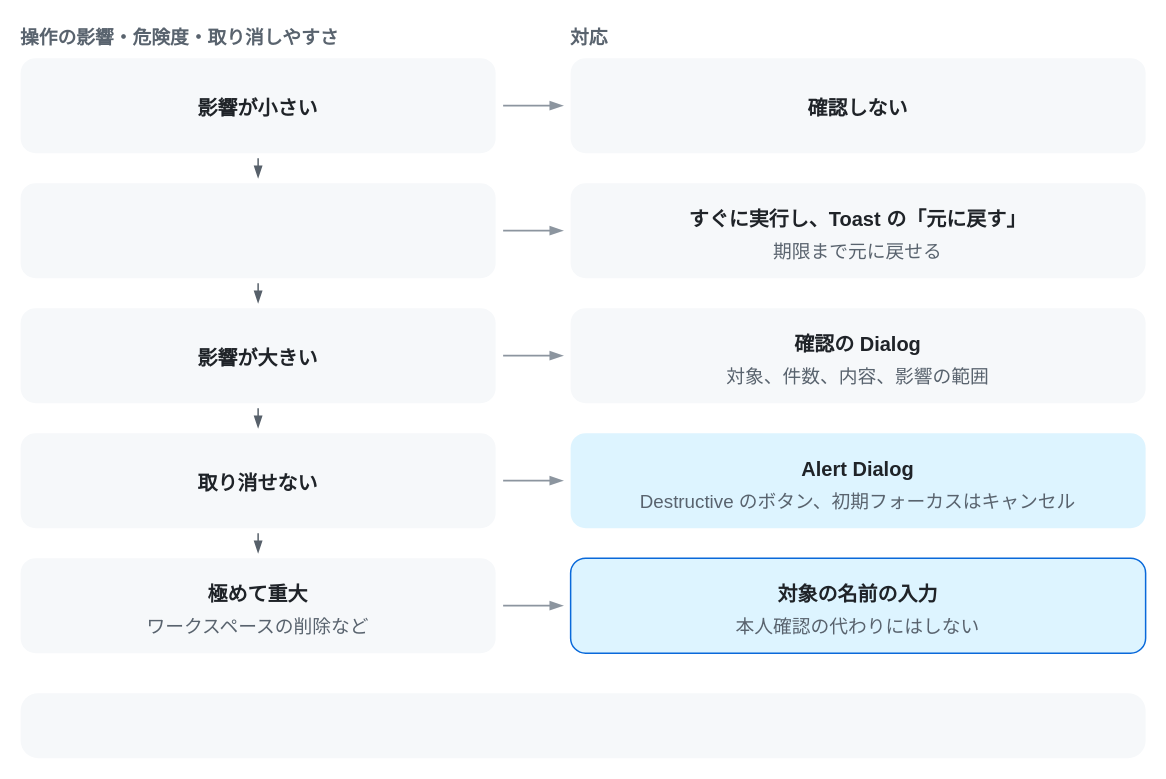
The diagram is 1166 pixels wide and 779 high, and some of its shapes have lost their labels. The centre of each missing label's shape, as x and y in pixels:
"安全に取り消せる" goes at (257,230).
"操作の名前（削除、更新など）だけで分けず、影響・危険度・取り消せるかどうかで決める" goes at (582,725).
